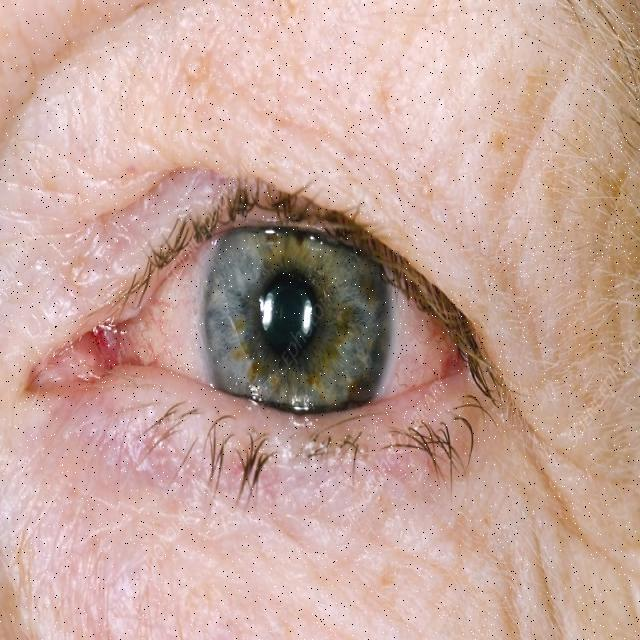Conjunctivitis: (27, 258, 469, 441)
